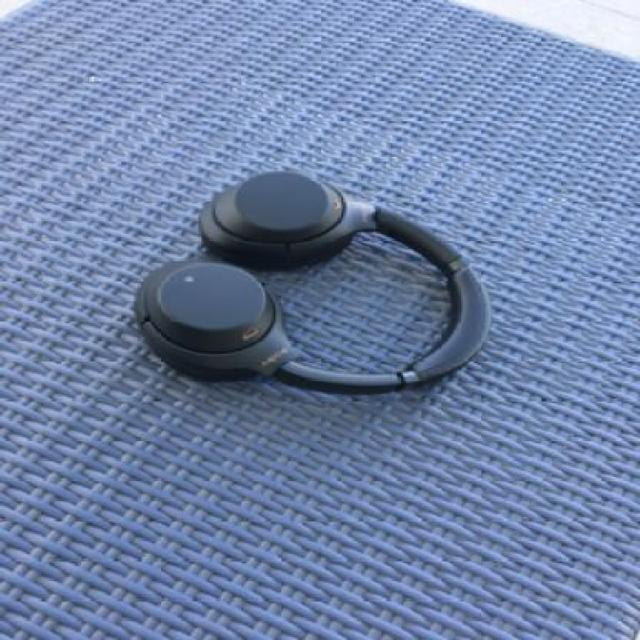earphone: (140, 112, 605, 440)
